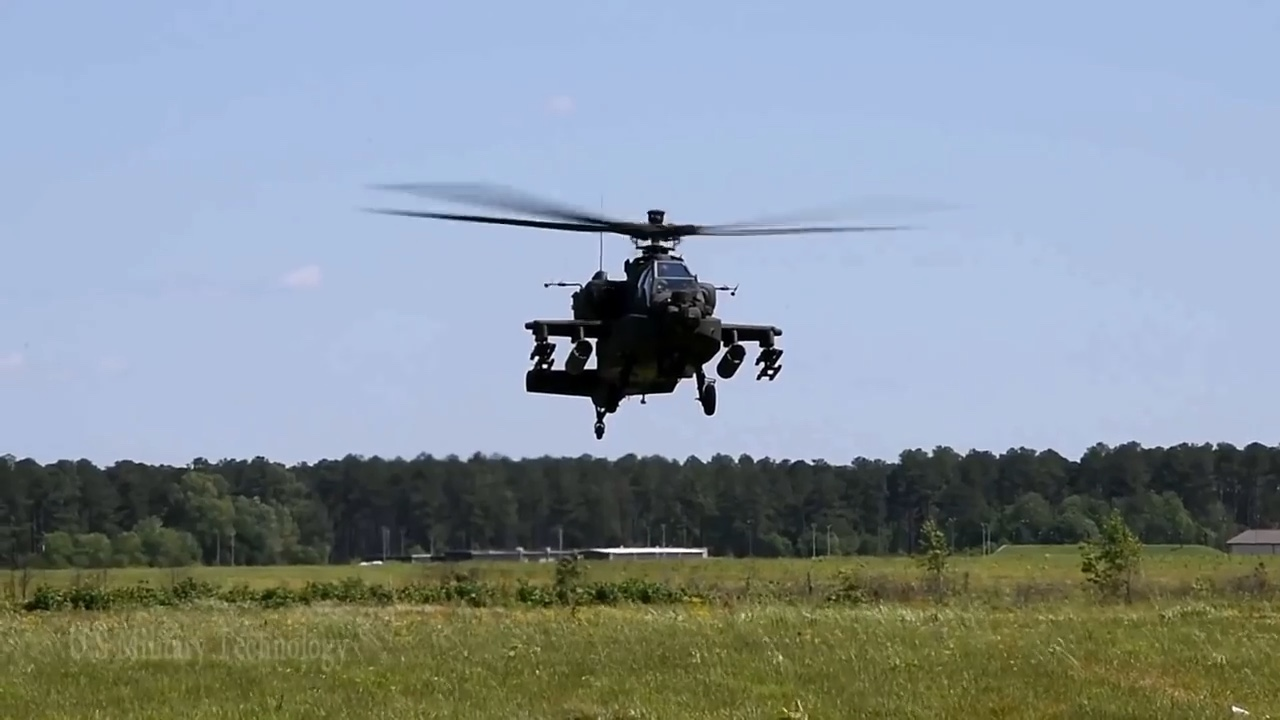ah64: (352, 176, 969, 442)
